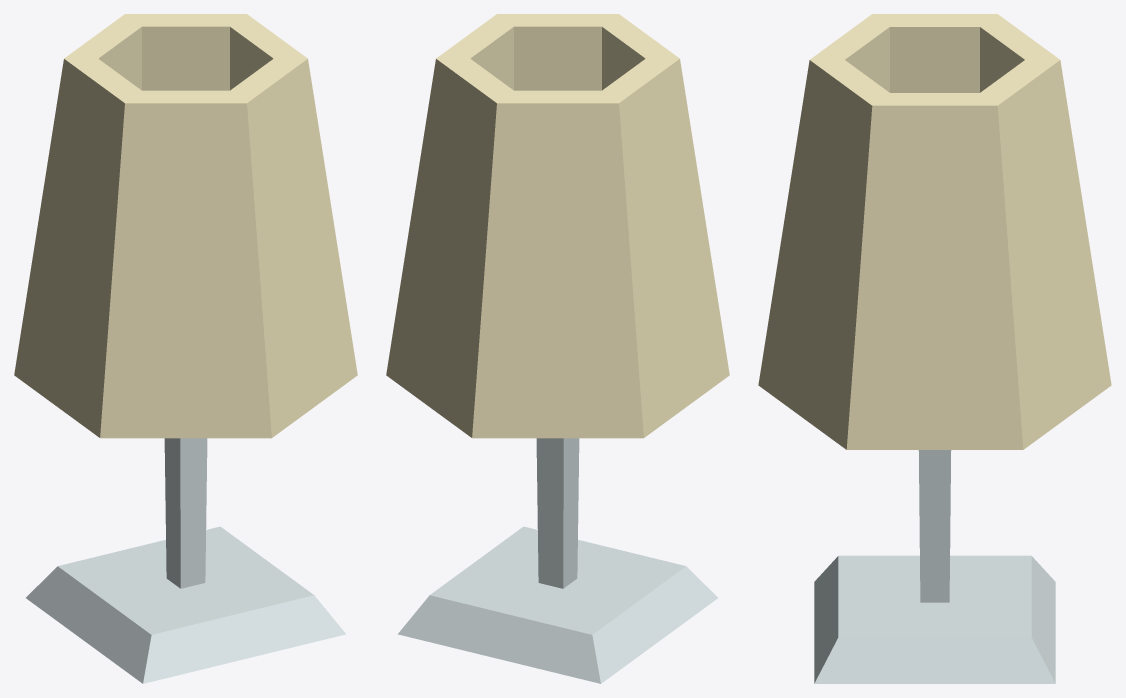
The model's file is Furniture_Lamp_ShortLowPoly.fbx.
3 views of the same model, side by side, from view 1: azimuth 30°, elevation 25°; view 2: azimuth 150°, elevation 25°; view 3: azimuth 270°, elevation 25° (orthographic). The views are drawn at different scales.
Parts seen in each view (by area): view 1: lampRoundTable; view 2: lampRoundTable; view 3: lampRoundTable.
Boxes of the visible parts, <box> form: lampRoundTable: <box>14,14,357,683</box>; lampRoundTable: <box>386,14,729,683</box>; lampRoundTable: <box>758,14,1111,683</box>.
Size of the model in its own units: 92.9 by 192 by 107.
